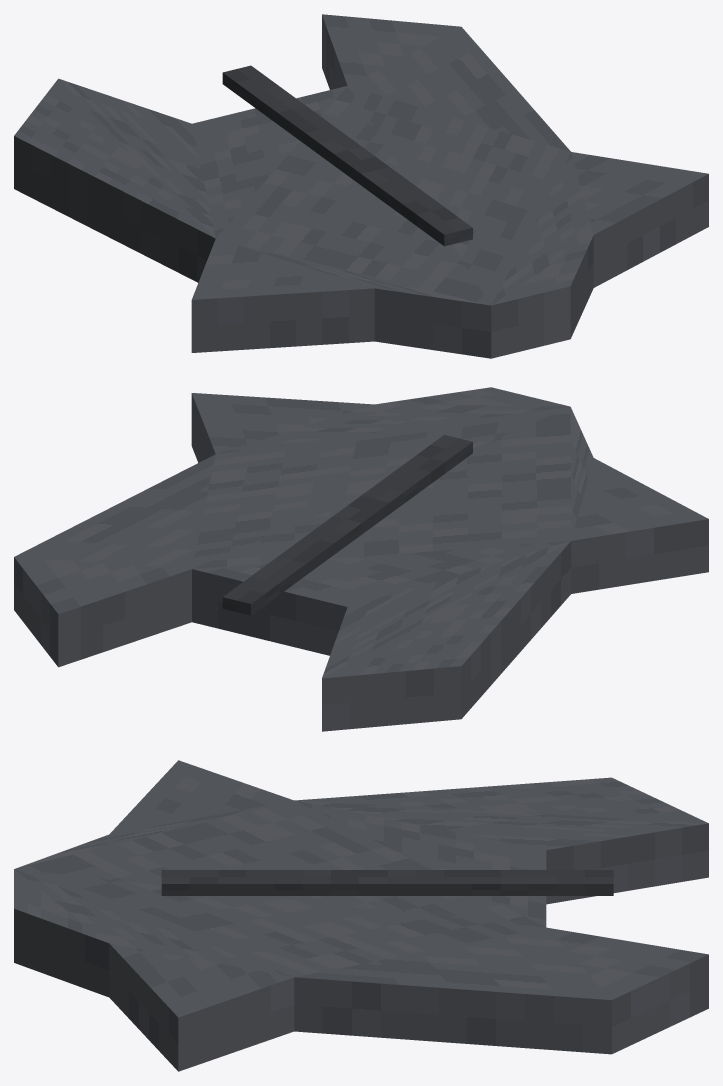
Rendered from leotard.glb.
3 renders of one model, top to bottom at view 1: azimuth 30°, elevation 25°; view 2: azimuth 150°, elevation 25°; view 3: azimuth 270°, elevation 25°, orthographic.
Visible parts, largest first — view 1: block_tailored torso, block_center seam; view 2: block_tailored torso, block_center seam; view 3: block_tailored torso, block_center seam.
Boxes of the visible parts, bbox=[...] form: block_tailored torso: bbox=[14, 14, 708, 358]; block_center seam: bbox=[222, 65, 472, 246]; block_tailored torso: bbox=[14, 387, 708, 731]; block_center seam: bbox=[222, 435, 472, 615]; block_tailored torso: bbox=[14, 760, 708, 1071]; block_center seam: bbox=[161, 870, 613, 895].
Size of the model in its own units: 0.5258 by 0.0629 by 0.6.
Materials: 1 (1 with a texture image).
